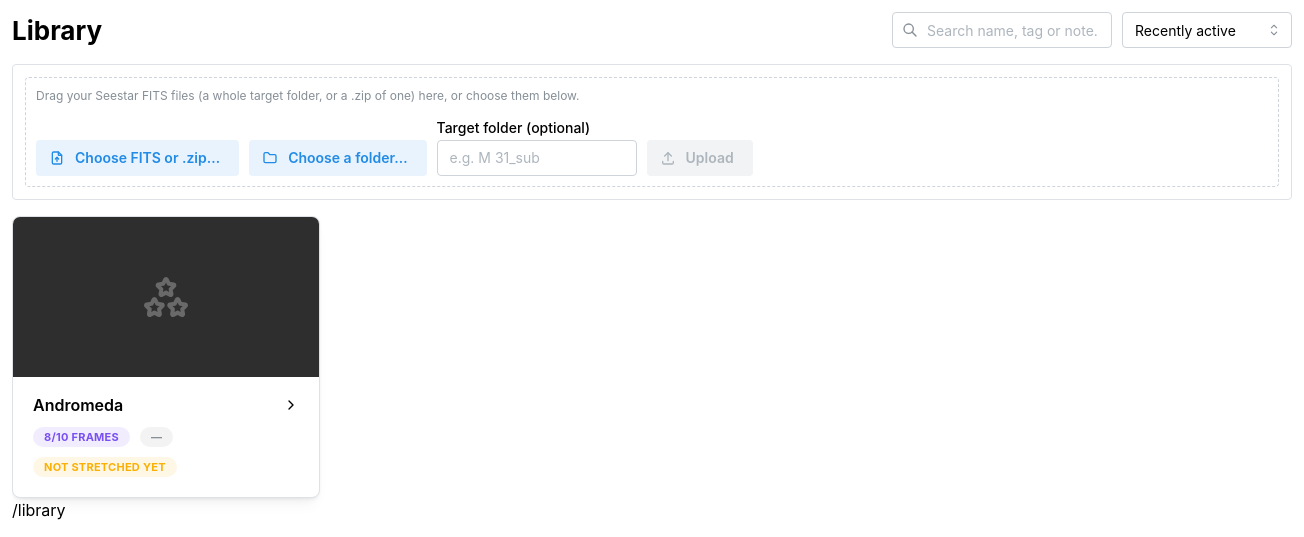
Test: Library — the "Not stretched yet" chip › takes one click from the chip to that picture's own editor
Click the button "Not stretched yet" at (105, 467), box [33,457,177,477]
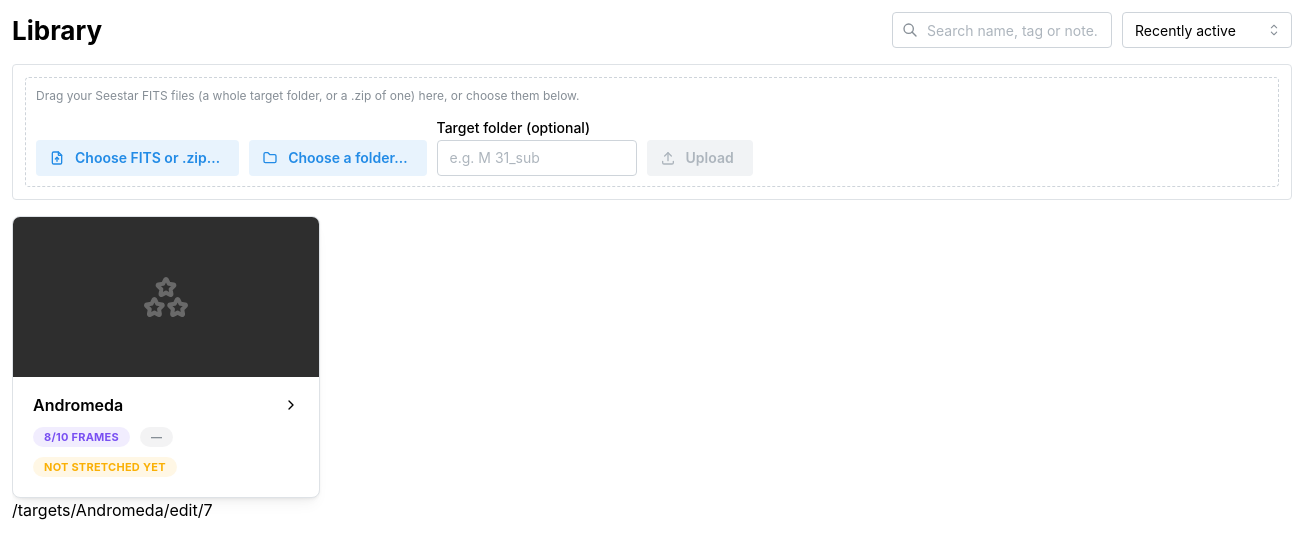
Expected: the text with test id "where" reads "/targets/Andromeda/edit/7", [12,500,212,520]
